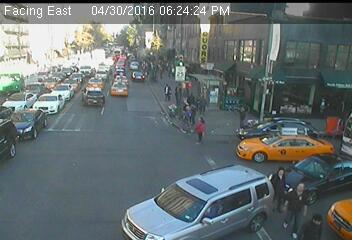neg: (200, 178, 225, 211), (319, 156, 340, 185), (42, 151, 61, 176), (41, 93, 59, 116), (228, 139, 245, 162), (122, 124, 139, 147), (217, 78, 234, 100), (163, 106, 176, 124), (80, 87, 93, 104), (172, 65, 184, 80), (128, 69, 139, 84)
pos: (276, 181, 319, 238), (261, 164, 298, 213), (189, 115, 211, 144), (305, 211, 326, 239), (232, 105, 251, 130), (161, 83, 175, 102), (197, 95, 210, 112)
